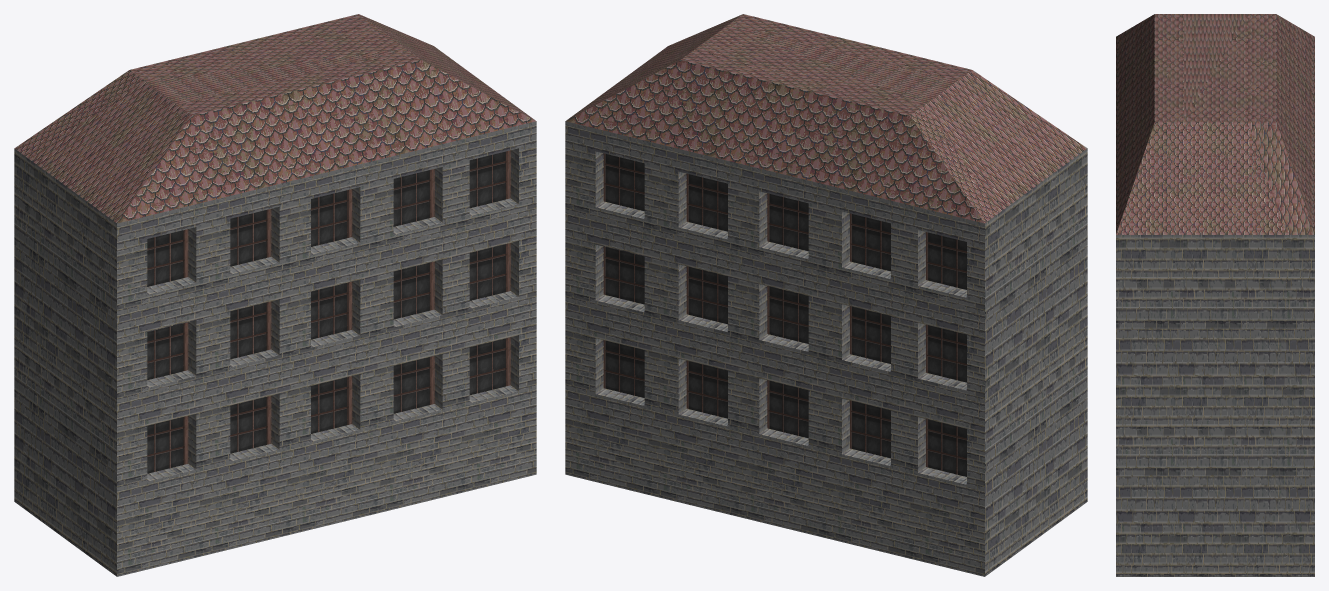
File: townhouseTextured.fbx
3 renders of one model, left to right at view 1: azimuth 30°, elevation 25°; view 2: azimuth 150°, elevation 25°; view 3: azimuth 270°, elevation 25°, orthographic. The views are drawn at different scales.
Visible parts, largest first — view 1: Cube.001; view 2: Cube.001; view 3: Cube.001.
Part boxes in pixels (x1,y1,x2,y2): Cube.001: (14,14,536,576); Cube.001: (565,14,1087,576); Cube.001: (1116,14,1314,576).
Size of the model in its own units: 555 by 536 by 236.
